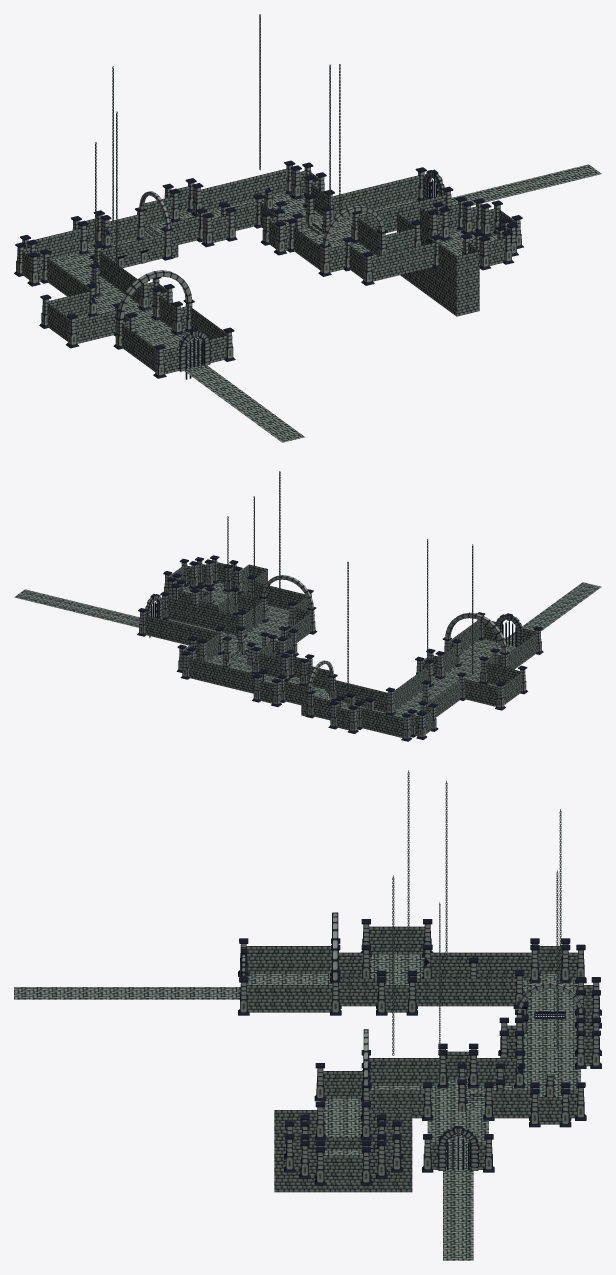
File: Level2.fbx
3 renders of one model, top to bottom at view 1: azimuth 30°, elevation 25°; view 2: azimuth 150°, elevation 25°; view 3: azimuth 270°, elevation 25°, orthographic. The views are drawn at different scales.
Visible parts, largest first — view 1: level2; view 2: level2; view 3: level2.
Boxes of the visible parts, bbox=[...] form: level2: bbox=[14, 14, 601, 442]; level2: bbox=[14, 471, 601, 741]; level2: bbox=[14, 770, 601, 1260].
Bounding box in the file's own units: 247 × 96.04 × 192.
